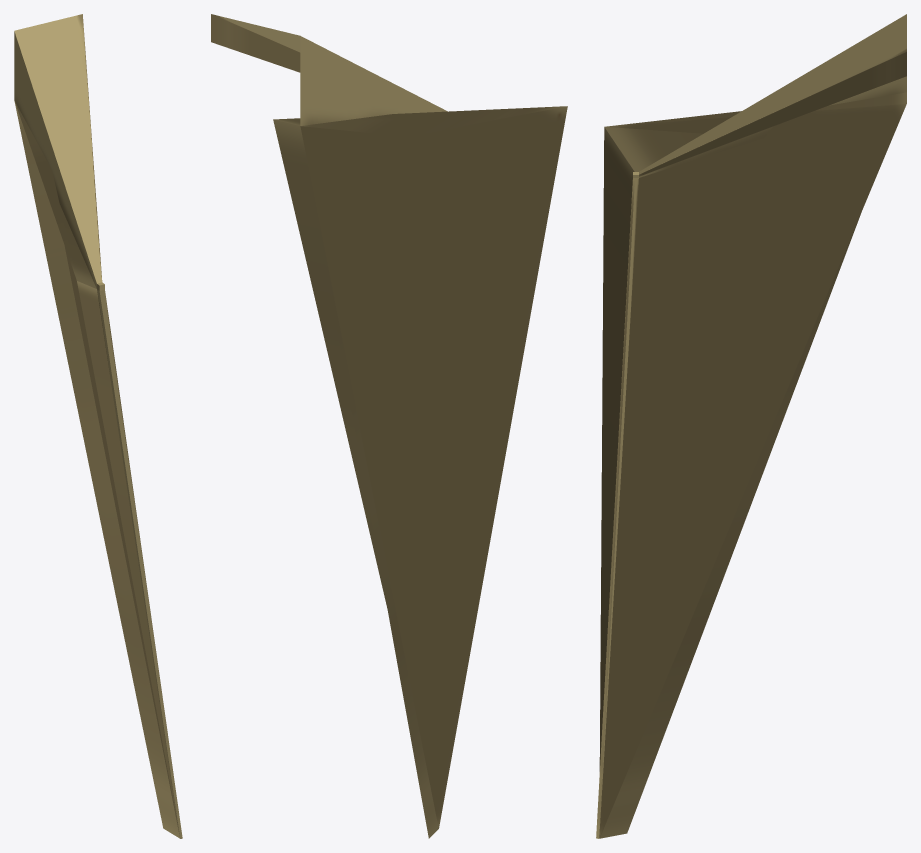
The model's file is crate fragments2.fbx.
3 renders of one model, left to right at view 1: azimuth 30°, elevation 25°; view 2: azimuth 150°, elevation 25°; view 3: azimuth 270°, elevation 25°, orthographic. The views are drawn at different scales.
Parts seen in each view (by area): view 1: CrateFragment2; view 2: CrateFragment2; view 3: CrateFragment2.
Boxes of the visible parts, bbox=[...] form: CrateFragment2: bbox=[14, 14, 182, 838]; CrateFragment2: bbox=[211, 14, 567, 838]; CrateFragment2: bbox=[596, 14, 906, 838].
Size of the model in its own units: 71.07 by 348 by 121.
